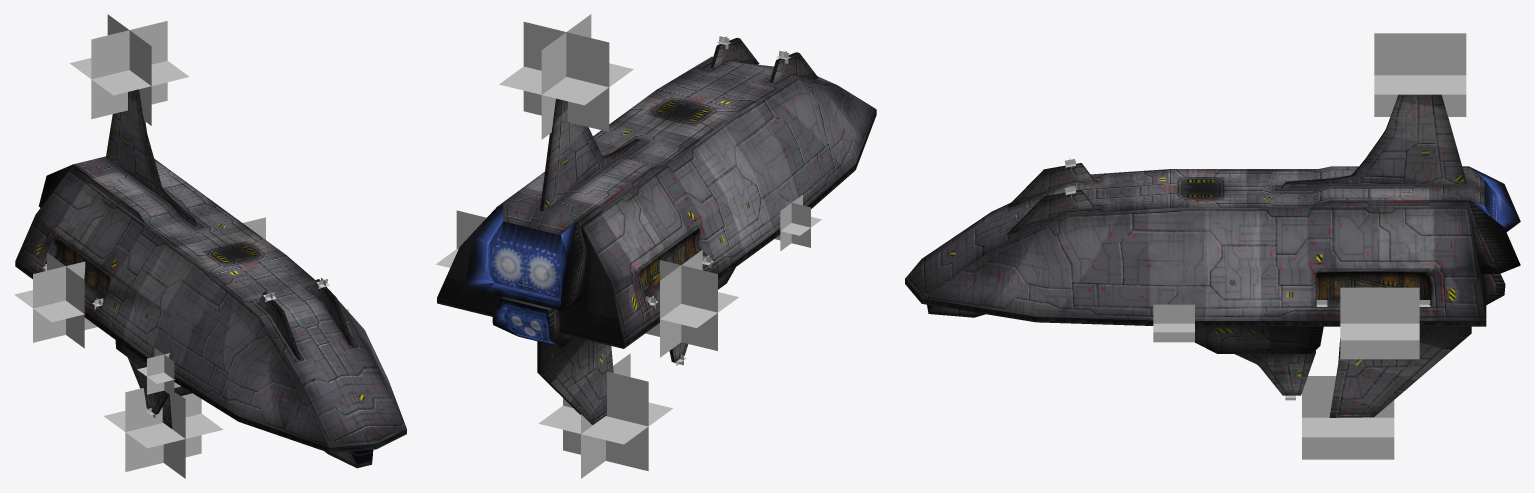
Rendered from mule.obj.
3 views of the same model, side by side, from view 1: azimuth 30°, elevation 25°; view 2: azimuth 150°, elevation 25°; view 3: azimuth 270°, elevation 25° (orthographic). The views are drawn at different scales.
Bounding box in the file's own units: 79.68 × 133 × 174.
